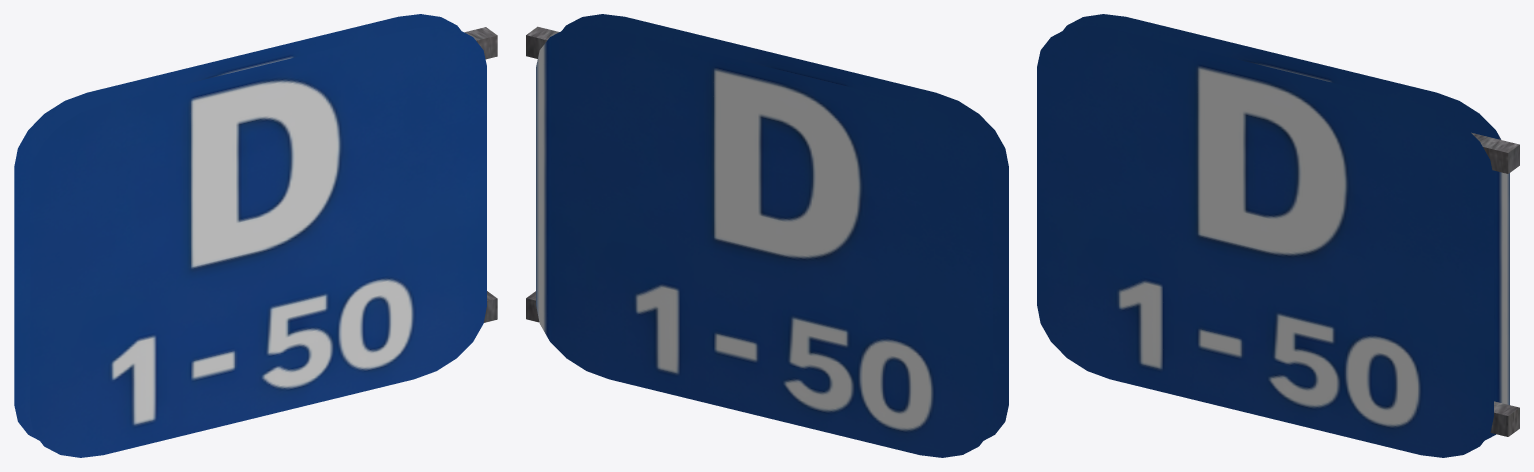
Rendered from skilt D 1-50.fbx.
3 views of the same model, side by side, from view 1: azimuth 30°, elevation 25°; view 2: azimuth 150°, elevation 25°; view 3: azimuth 330°, elevation 25° (orthographic).
Visible parts, largest first — view 1: Cube; view 2: Cube; view 3: Cube.
Boxes of the visible parts, x1,y1,x2,y2 form: Cube: (14, 14, 497, 457); Cube: (526, 14, 1008, 457); Cube: (1037, 14, 1519, 457).
Bounding box in the file's own units: 0.9334 × 0.667 × 0.055.
Materials: 2 (2 with a texture image).
